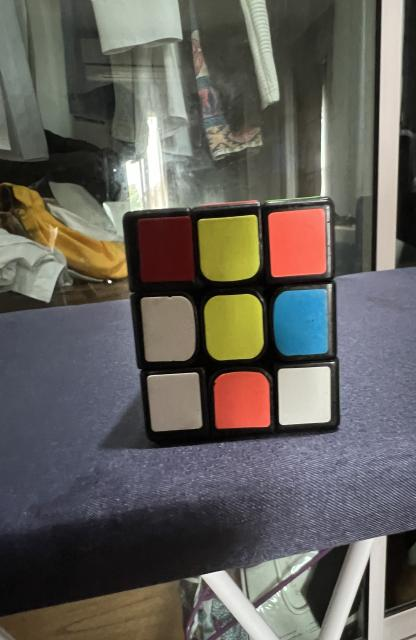Blue: (273, 289, 328, 355)
Orange: (268, 209, 326, 278), (213, 371, 271, 429)
Red: (138, 216, 194, 282)
White: (141, 296, 196, 361), (146, 372, 203, 431), (277, 366, 332, 425)
Yellow: (197, 215, 260, 281), (204, 294, 264, 361)
